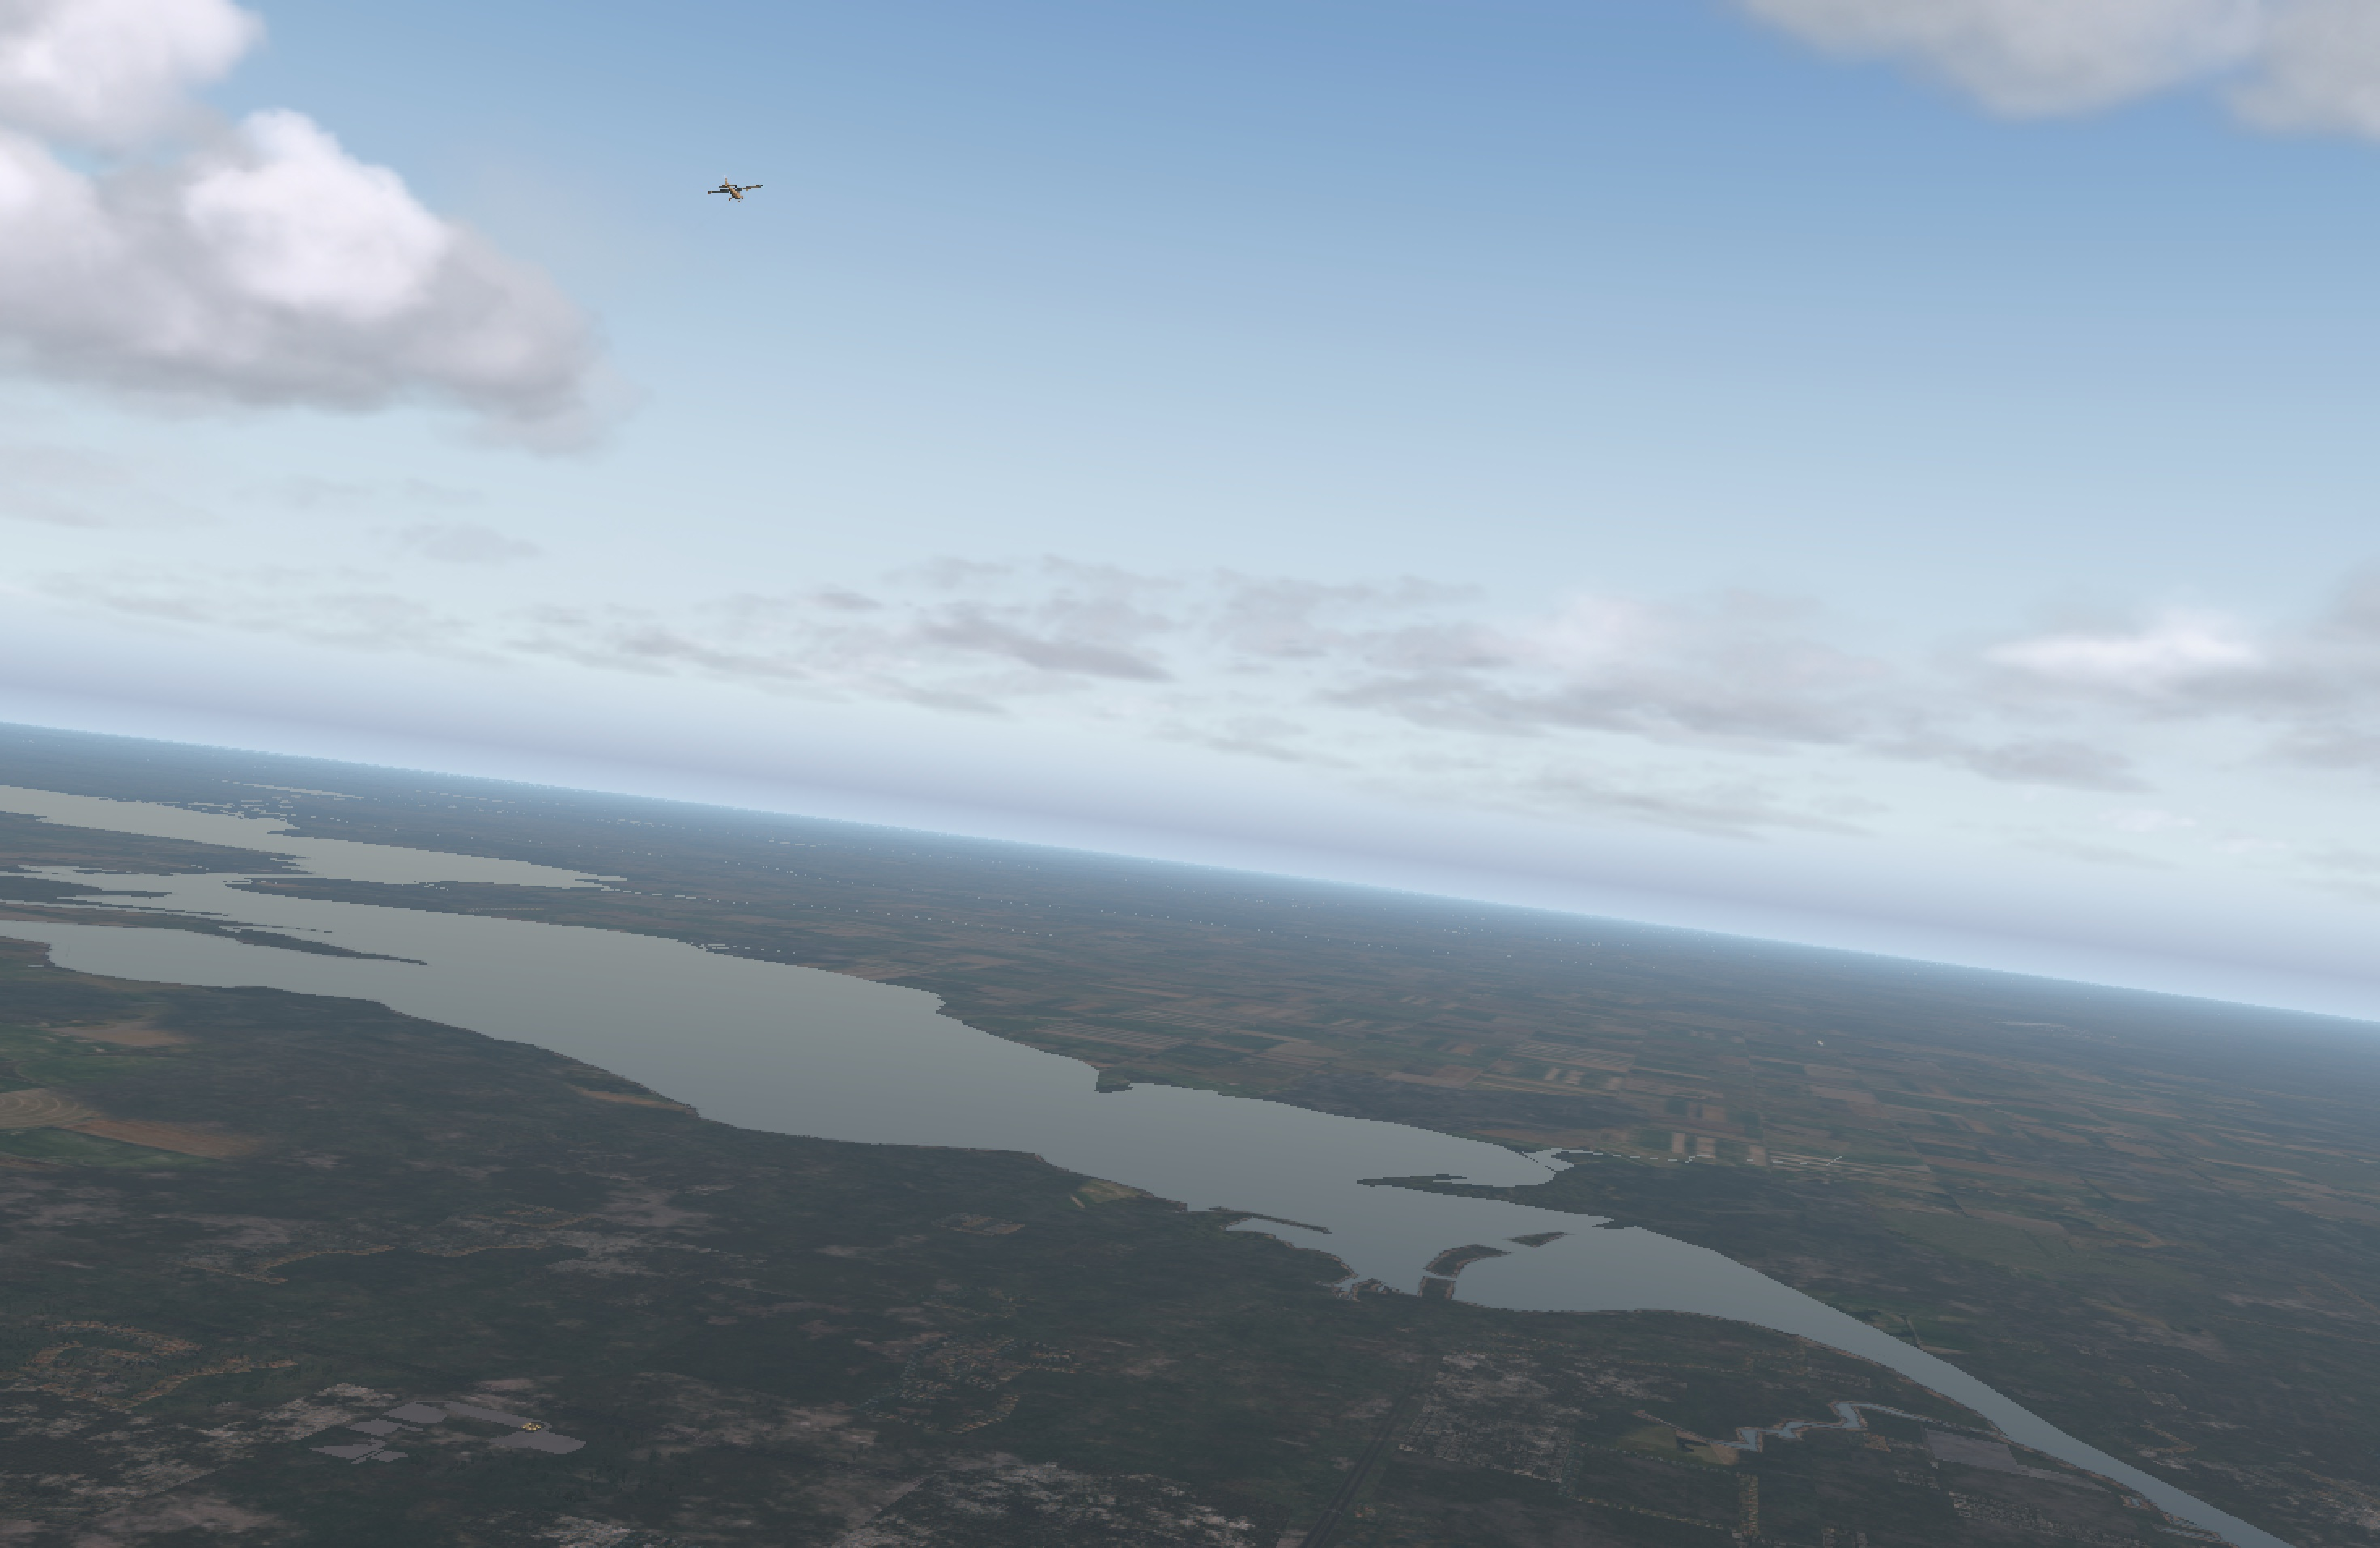aircraft: (716, 186, 755, 200)
